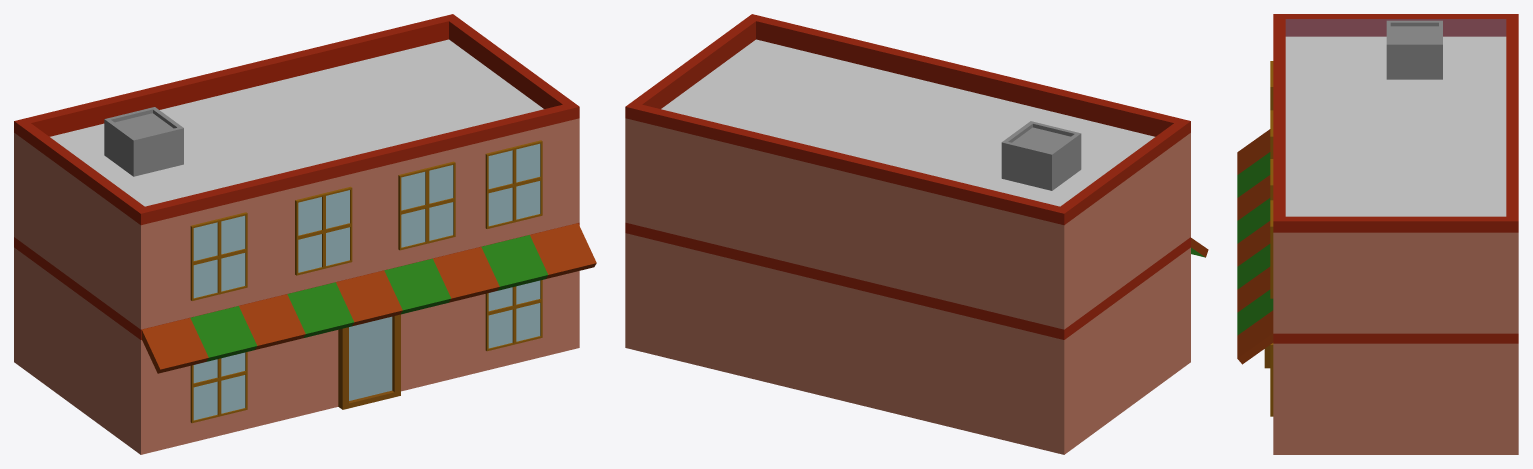
File: Store_1.fbx
3 renders of one model, left to right at view 1: azimuth 30°, elevation 25°; view 2: azimuth 150°, elevation 25°; view 3: azimuth 270°, elevation 25°, orthographic. The views are drawn at different scales.
Parts seen in each view (by area): view 1: Cube; view 2: Cube; view 3: Cube.
Boxes of the visible parts, x1,y1,x2,y2 form: Cube: [14, 14, 596, 454]; Cube: [625, 14, 1208, 454]; Cube: [1237, 14, 1518, 454].
Bounding box in the file's own units: 40 × 22.57 × 22.93.
